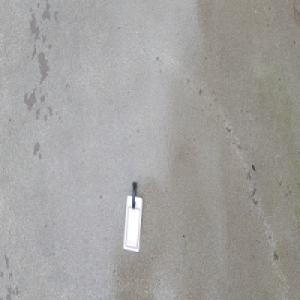LuggageTag: (121, 177, 142, 249)
